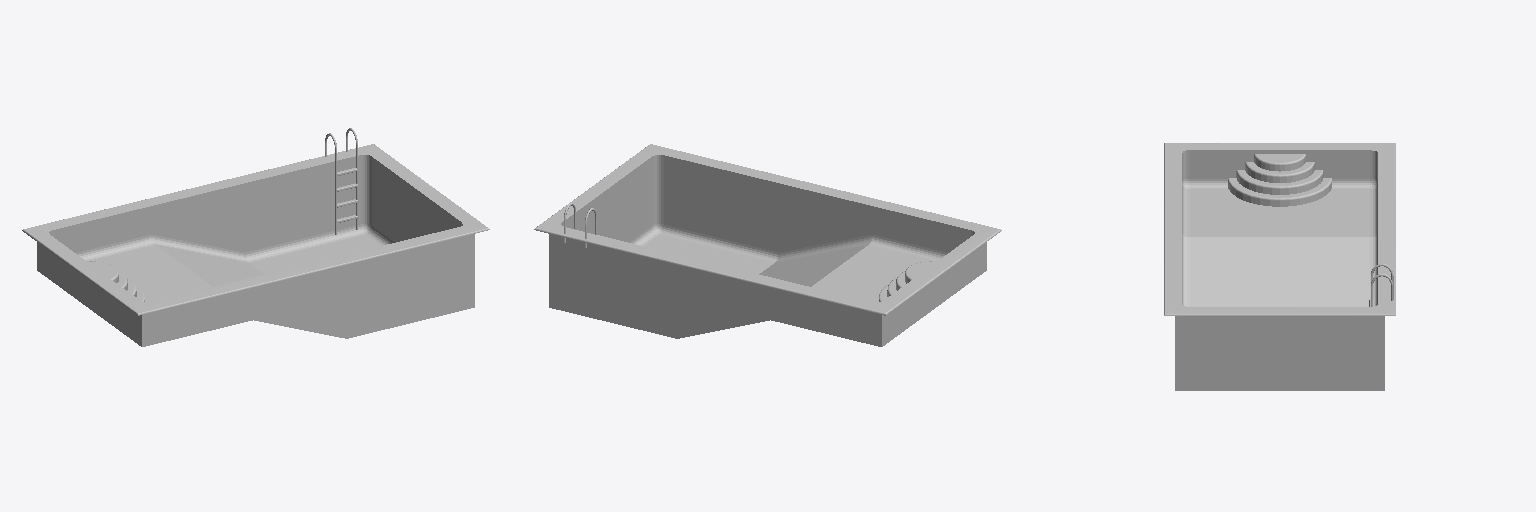
Rendered from pool.obj.
The picture shows the model from 3 angles: view 1: azimuth 30°, elevation 25°; view 2: azimuth 150°, elevation 25°; view 3: azimuth 270°, elevation 25°; orthographic projection.
Visible parts, largest first — view 1: SWIMMING_POOL, SWIMMING_POOL_LADDER; view 2: SWIMMING_POOL; view 3: SWIMMING_POOL.
Part boxes in pixels (x1,y1,x2,y2): SWIMMING_POOL: (22, 144, 489, 346); SWIMMING_POOL_LADDER: (325, 128, 357, 234); SWIMMING_POOL: (534, 144, 1001, 346); SWIMMING_POOL: (1164, 143, 1395, 390).
Size of the model in its own units: 92.66 by 27.14 by 52.93.